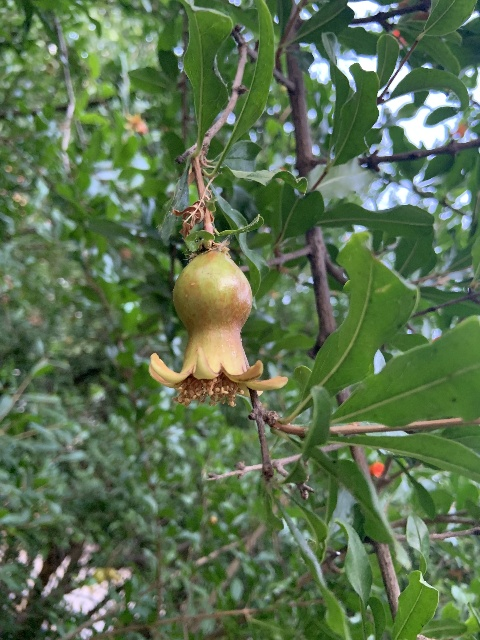early-fruit: (148, 250, 288, 407)
